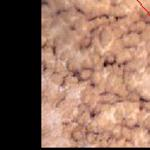alive: (42, 1, 145, 146)
